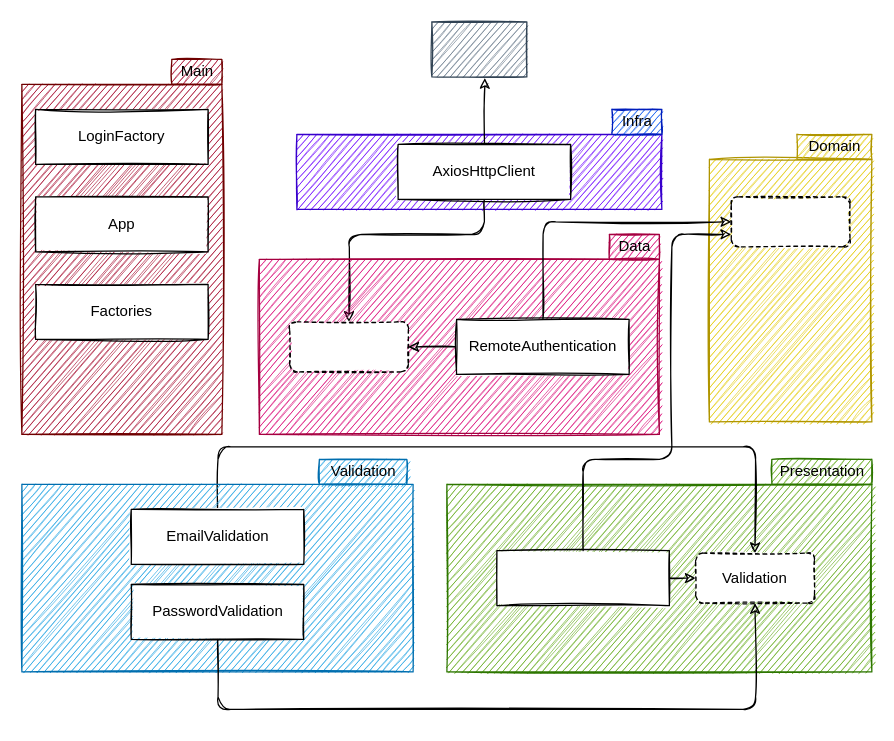
This 894x741 diagram has some shape labels left out. The shapes that lost their labels are listed below. From the top down, each one's centre as x and y in pixels, then its label:
the point at 479,49: Axios
the point at 790,221: Authentication
the point at 348,346: HttpPostClient
the point at 582,577: Login
